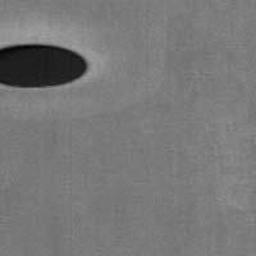Punching: (0, 44, 88, 88)
